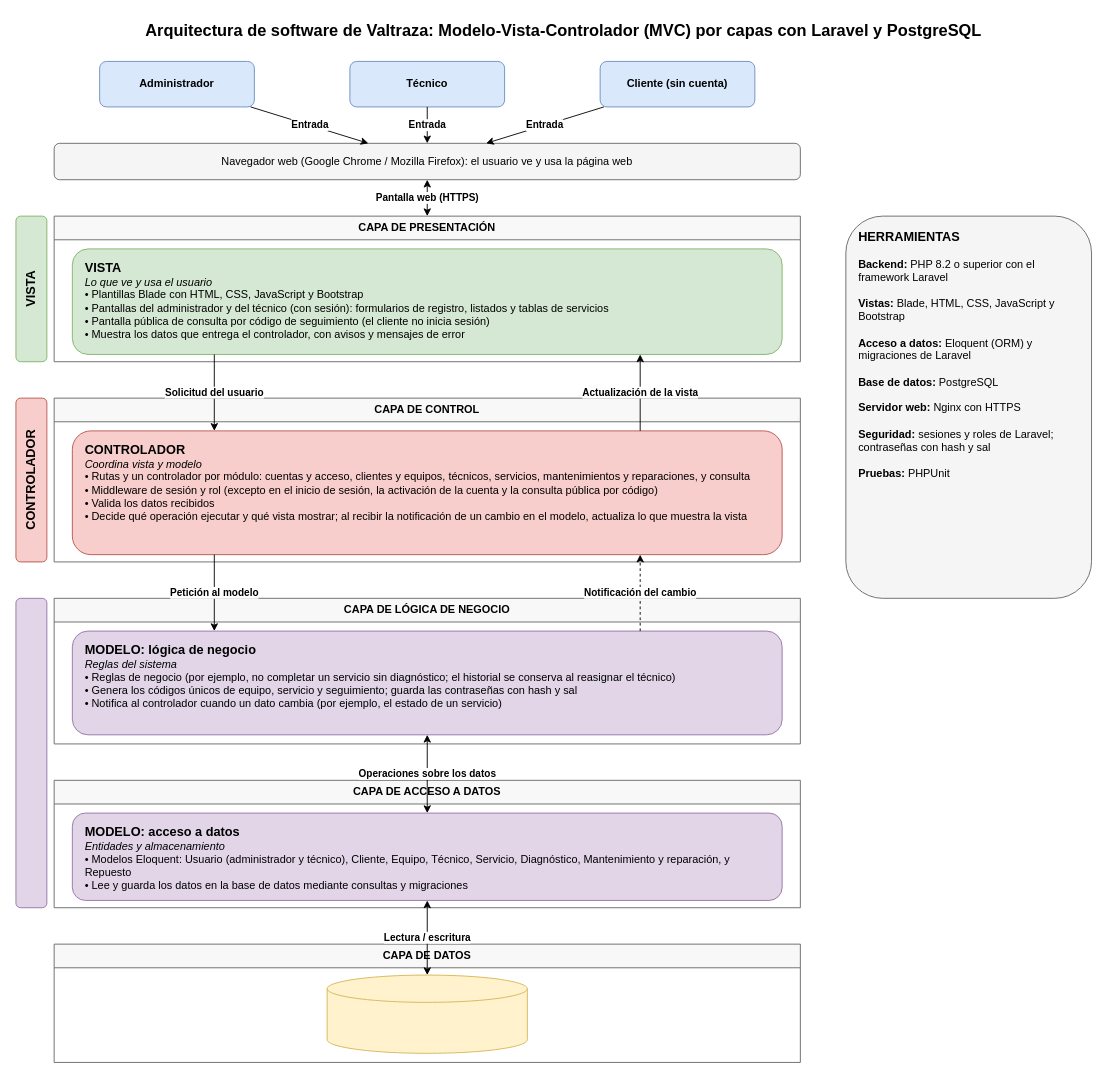
Some shapes in this 1107 by 1078 pixel diagram are drawn without their labels. Here are the shapes that lost their labels. From the top down, the centre of each, then its label:
the point at 31,752: MODELO
the point at 426,1013: Base de datos única PostgreSQL
